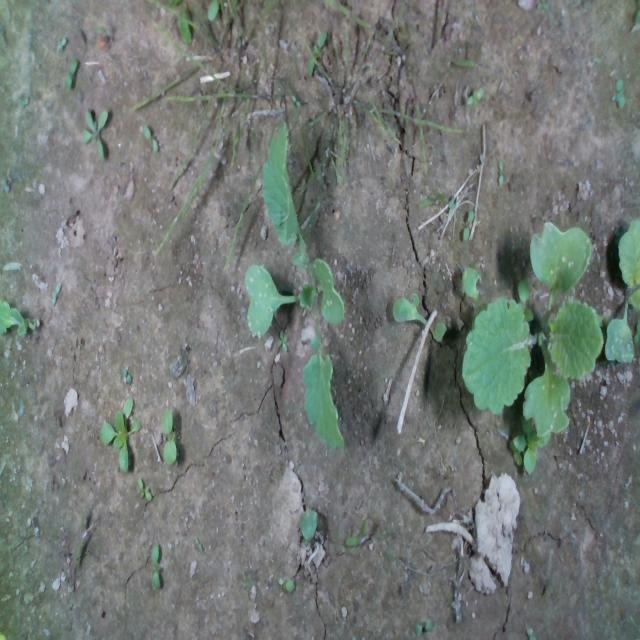weed: (80, 105, 110, 161), (160, 405, 176, 466), (344, 516, 369, 548), (149, 540, 161, 590), (63, 54, 79, 90), (141, 122, 159, 152), (136, 475, 152, 501), (462, 207, 474, 240), (414, 617, 433, 636), (49, 278, 61, 308), (53, 33, 67, 51), (497, 156, 503, 188)
